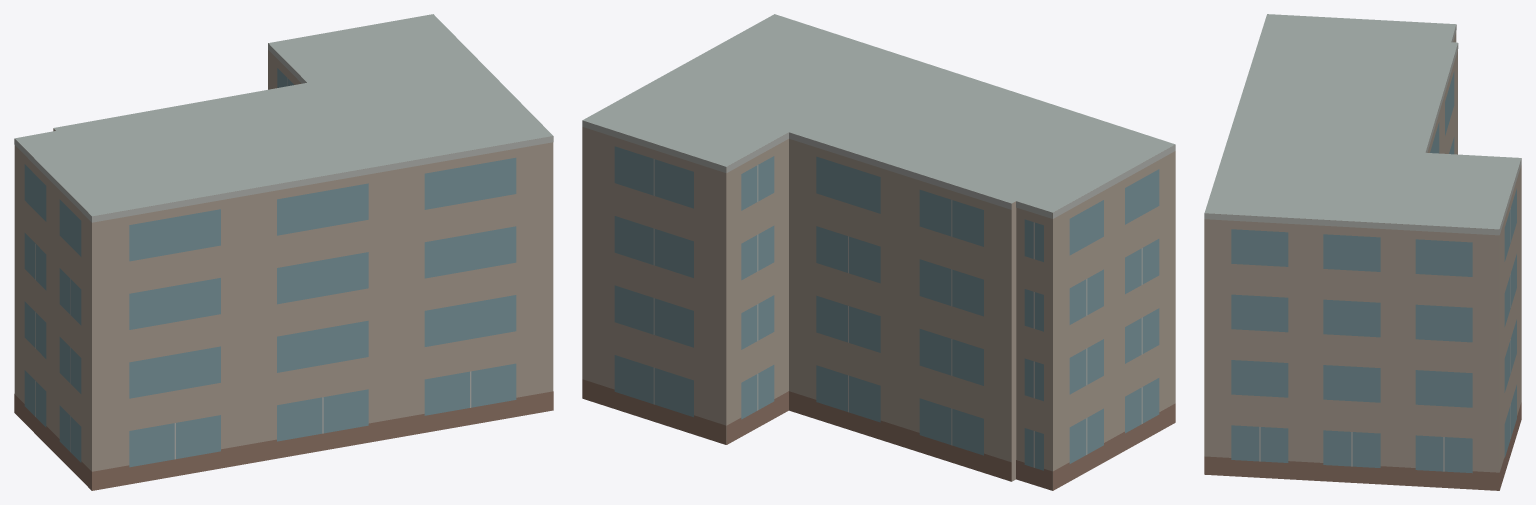
The model's file is survey-upis-32522751.glb.
The picture shows the model from 3 angles, left to right: view 1: azimuth 30°, elevation 25°; view 2: azimuth 150°, elevation 25°; view 3: azimuth 270°, elevation 25°; orthographic projection. The views are drawn at different scales.
Parts seen in each view (by area): view 1: survey-upis-32522751.tmp; view 2: survey-upis-32522751.tmp; view 3: survey-upis-32522751.tmp.
Part boxes in pixels (bbox=[...]): survey-upis-32522751.tmp: bbox=[14, 14, 553, 490]; survey-upis-32522751.tmp: bbox=[582, 14, 1175, 490]; survey-upis-32522751.tmp: bbox=[1204, 14, 1521, 490].
Bounding box in the file's own units: 18.83 × 10.65 × 11.72.
